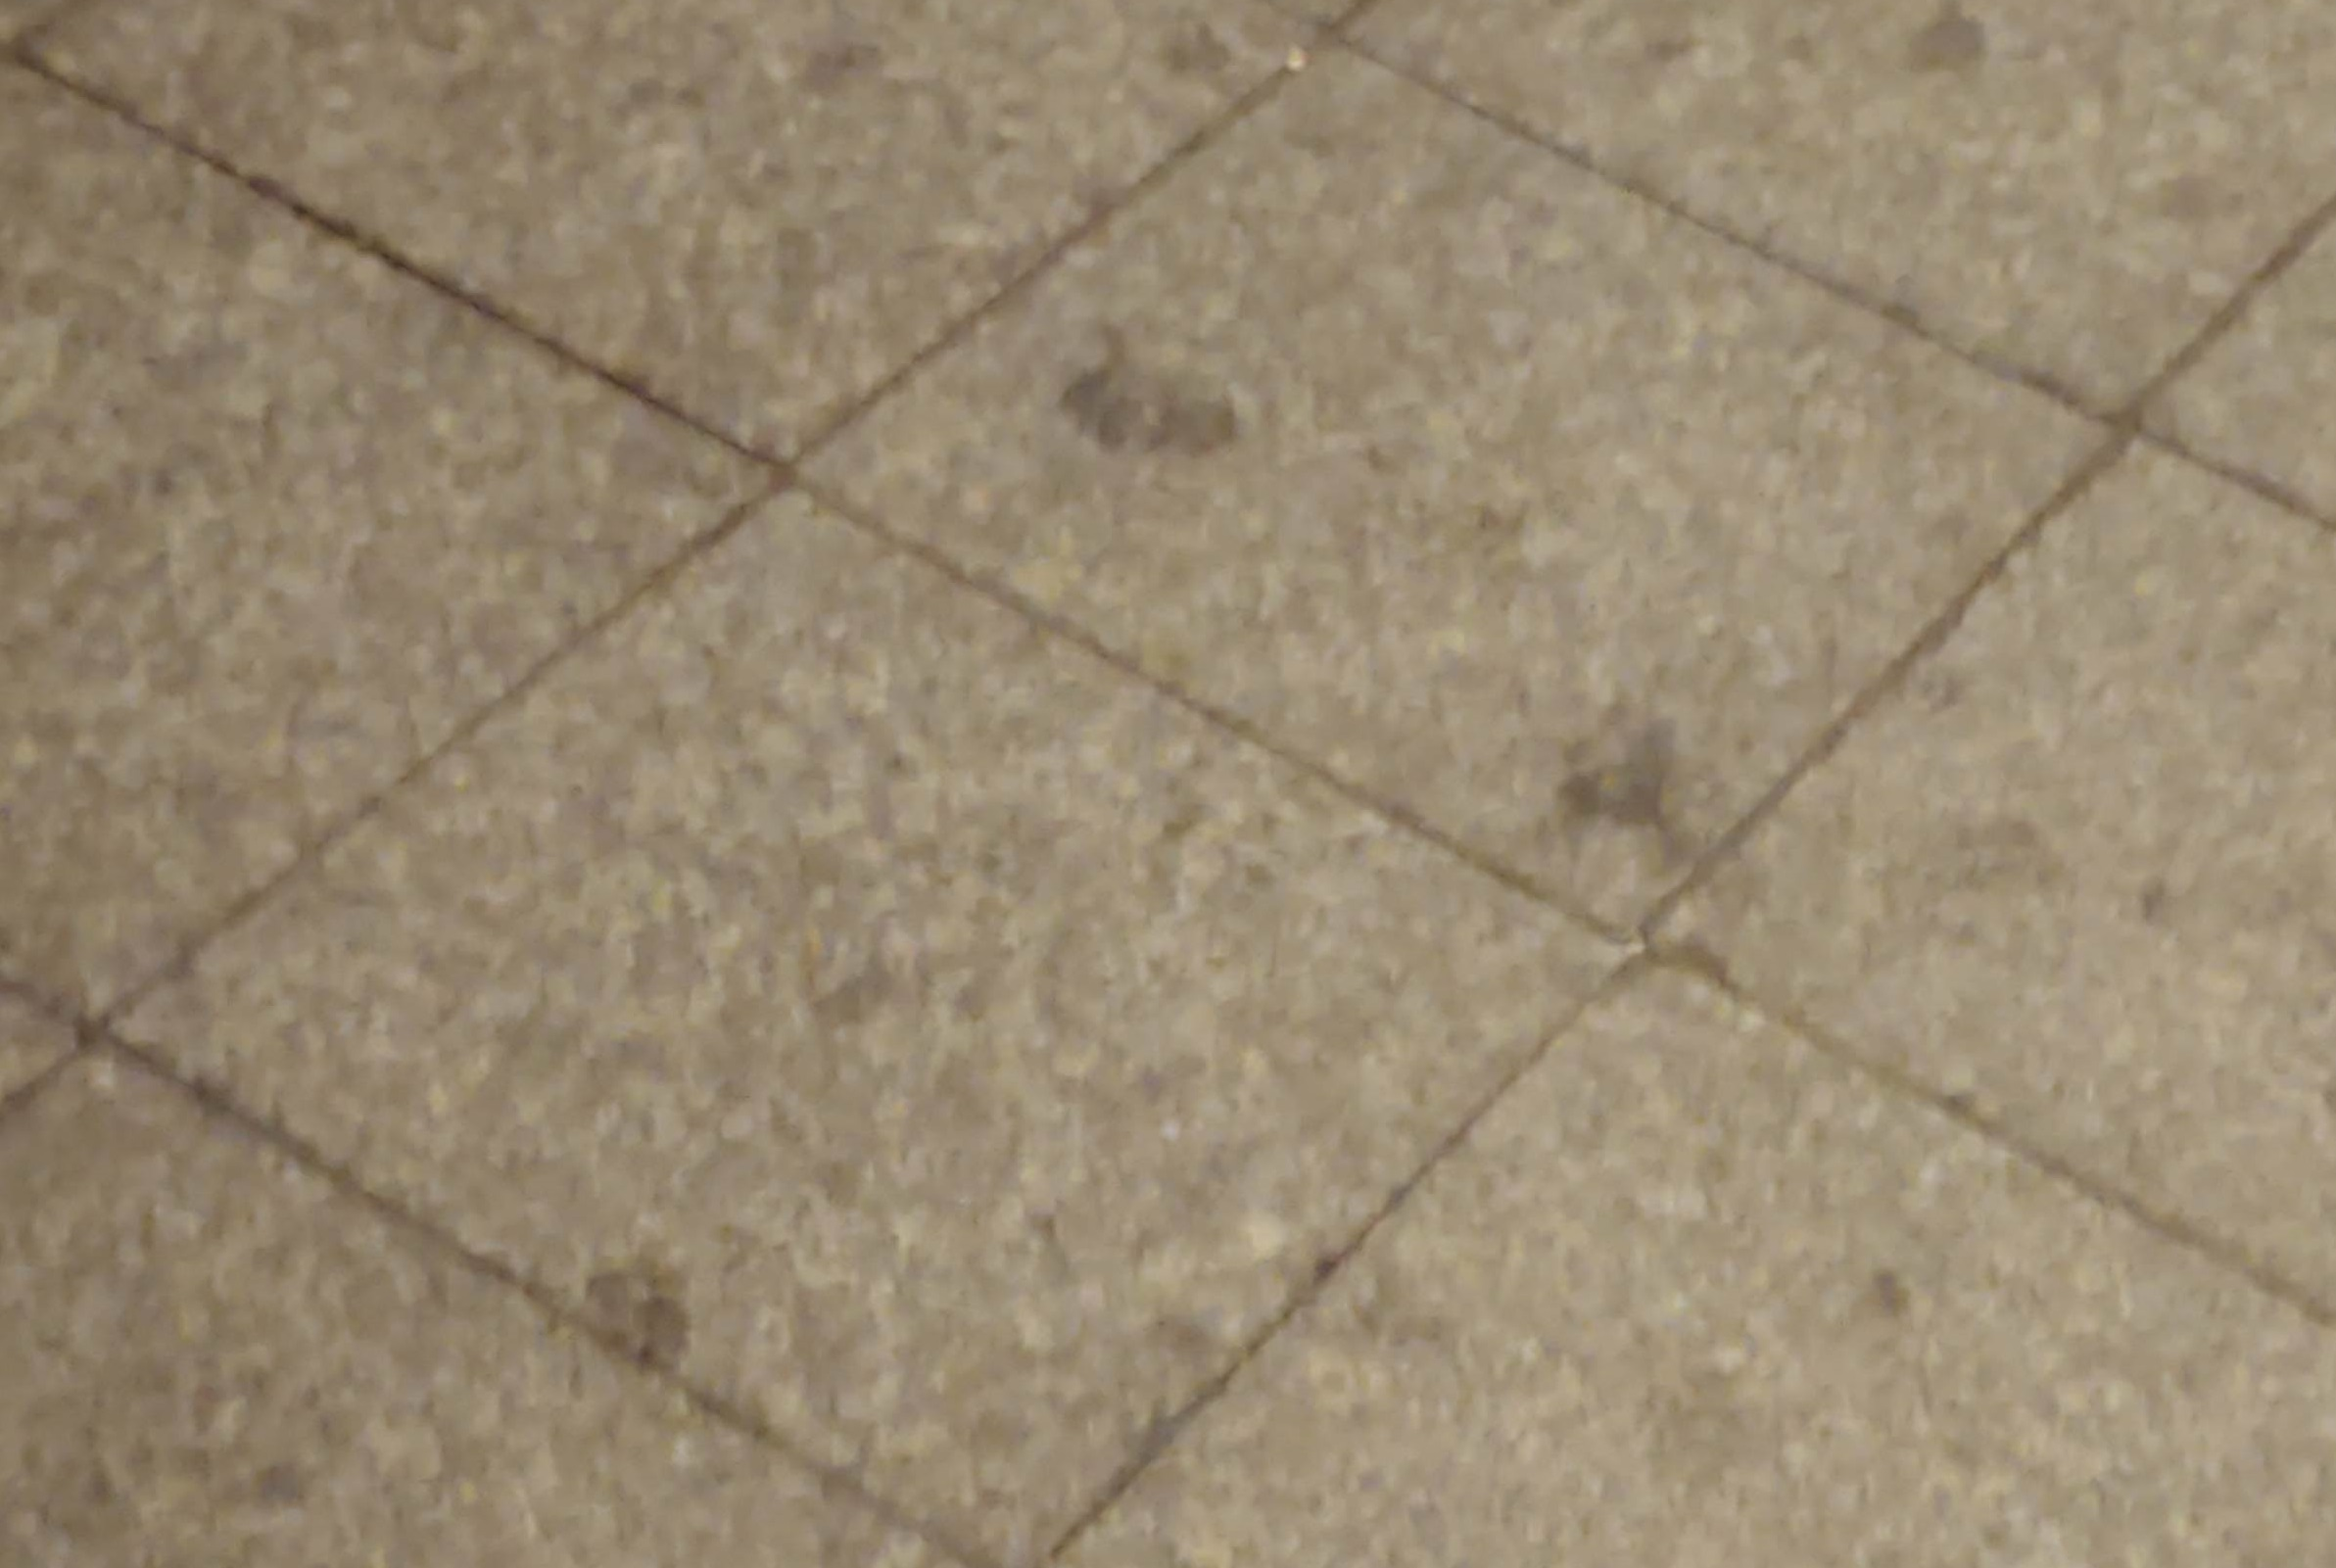grey spot: (1055, 317, 1241, 455), (1559, 677, 1671, 843), (581, 1262, 689, 1379)
